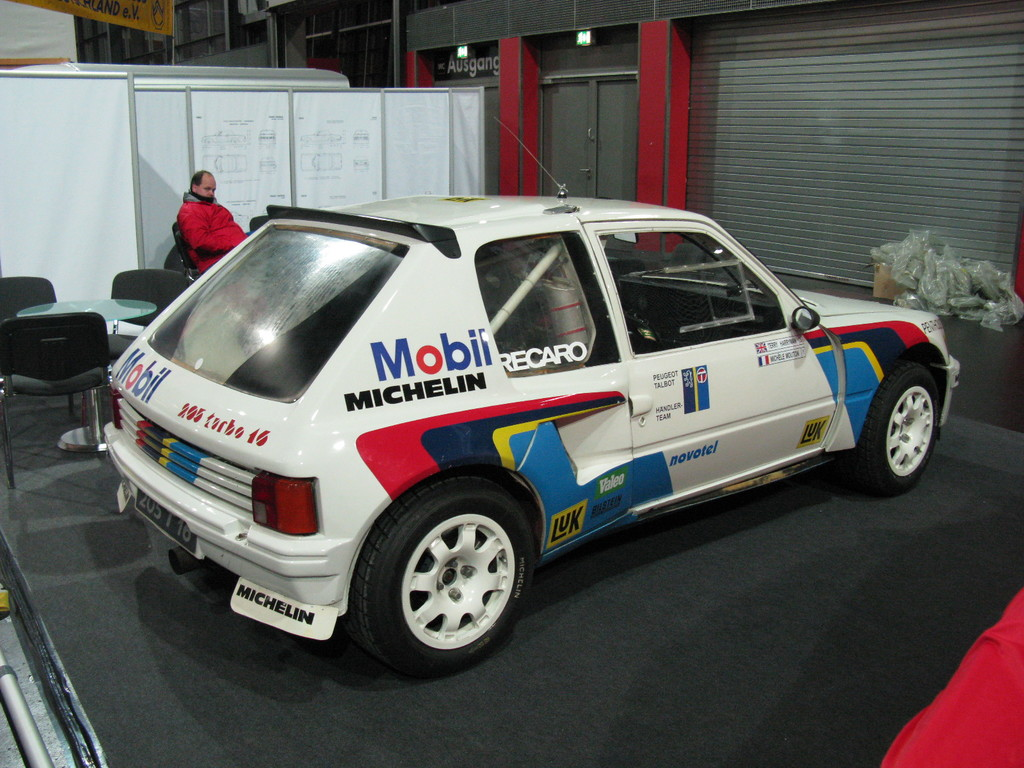person: (173, 168, 248, 278)
